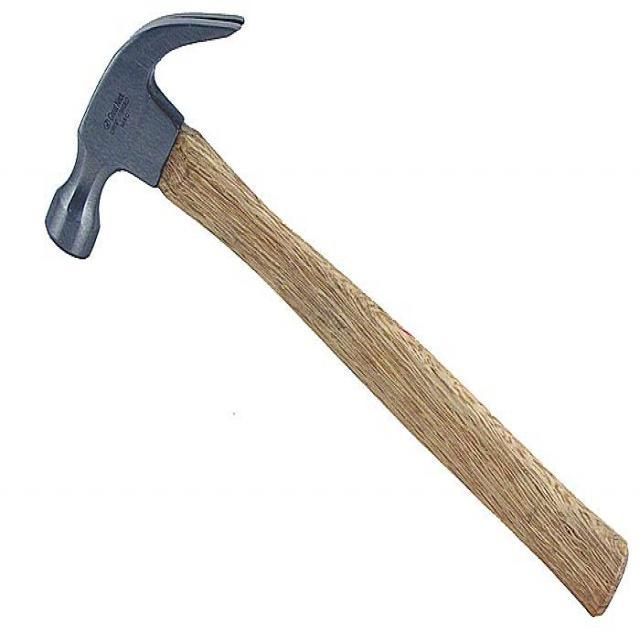hammer: (36, 0, 636, 629)
